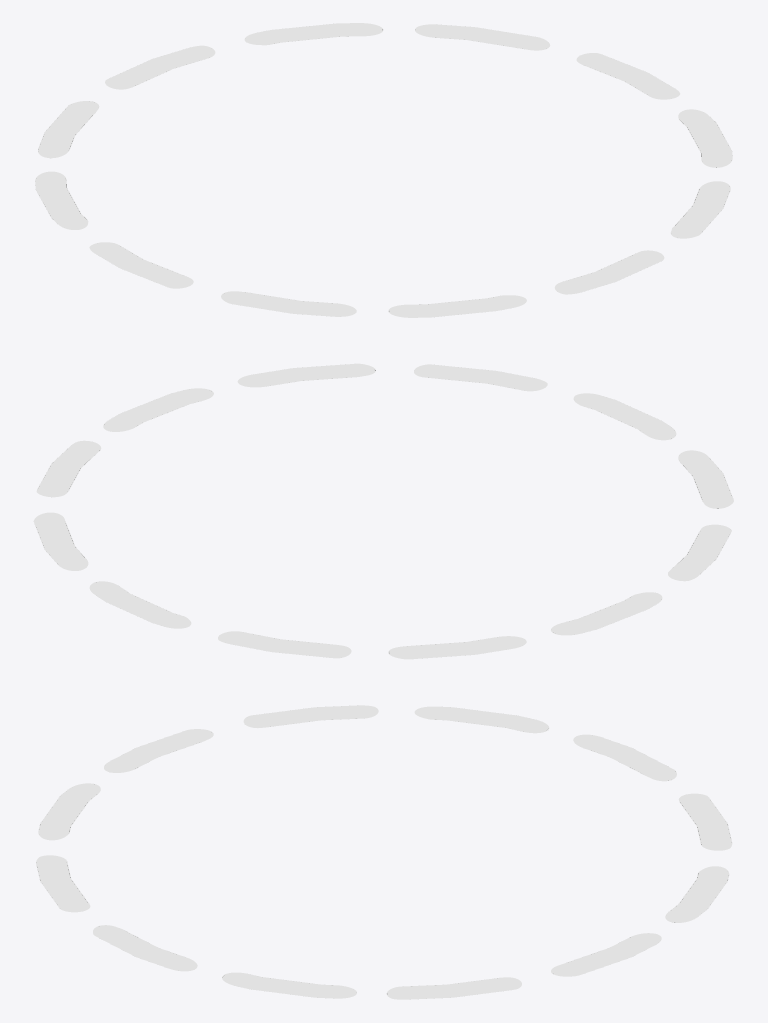
Rendered from GroupCircleMesh.fbx.
3 views of the same model, one above another, from view 1: azimuth 30°, elevation 25°; view 2: azimuth 150°, elevation 25°; view 3: azimuth 270°, elevation 25° (orthographic).
Parts seen in each view (by area): view 1: Cylinder; view 2: Cylinder; view 3: Cylinder.
Boxes of the visible parts, box(x1,y1,x2,y2) form: Cylinder: box(35, 23, 732, 317); Cylinder: box(33, 363, 733, 659); Cylinder: box(36, 705, 732, 999).
Size of the model in its own units: 5.45 by 0 by 5.45.
